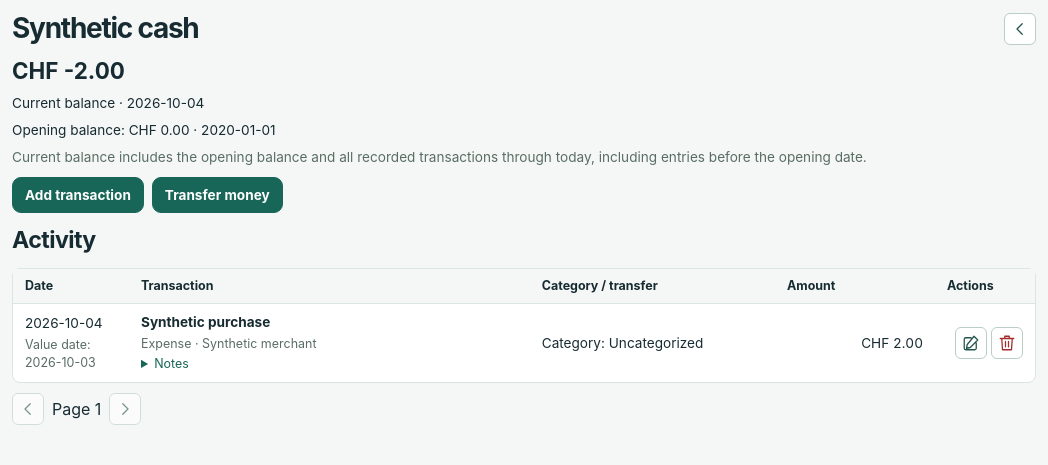
Test: shows compact rows with accessible inline actions and preserves transaction details
Check: the text "Expense · Synthetic merchant" is shown, box [141, 336, 316, 351]
Check: the text "Value date: 2026-10-03" is shown, box [25, 337, 96, 370]
Click the heading "Notes" at (172, 364), box [154, 356, 189, 371]
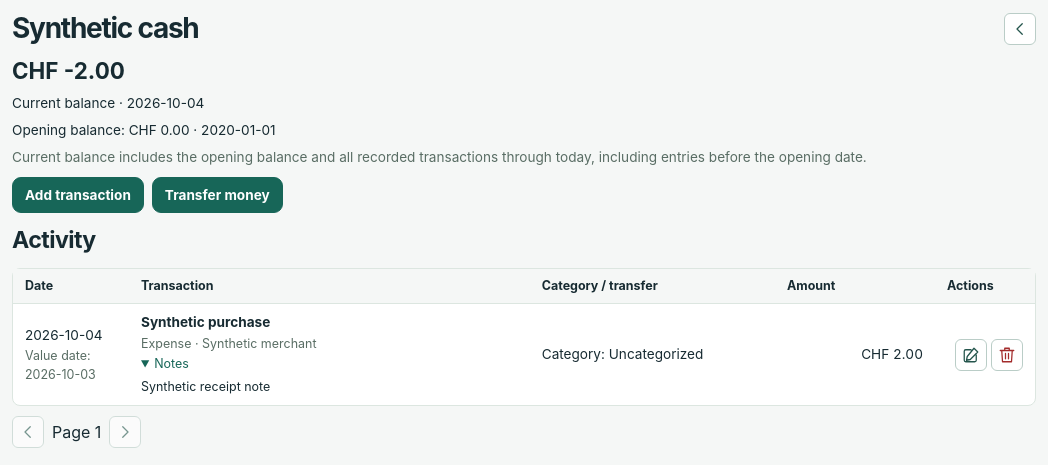
Check: the text "Synthetic receipt note" is shown, box [141, 379, 270, 394]
